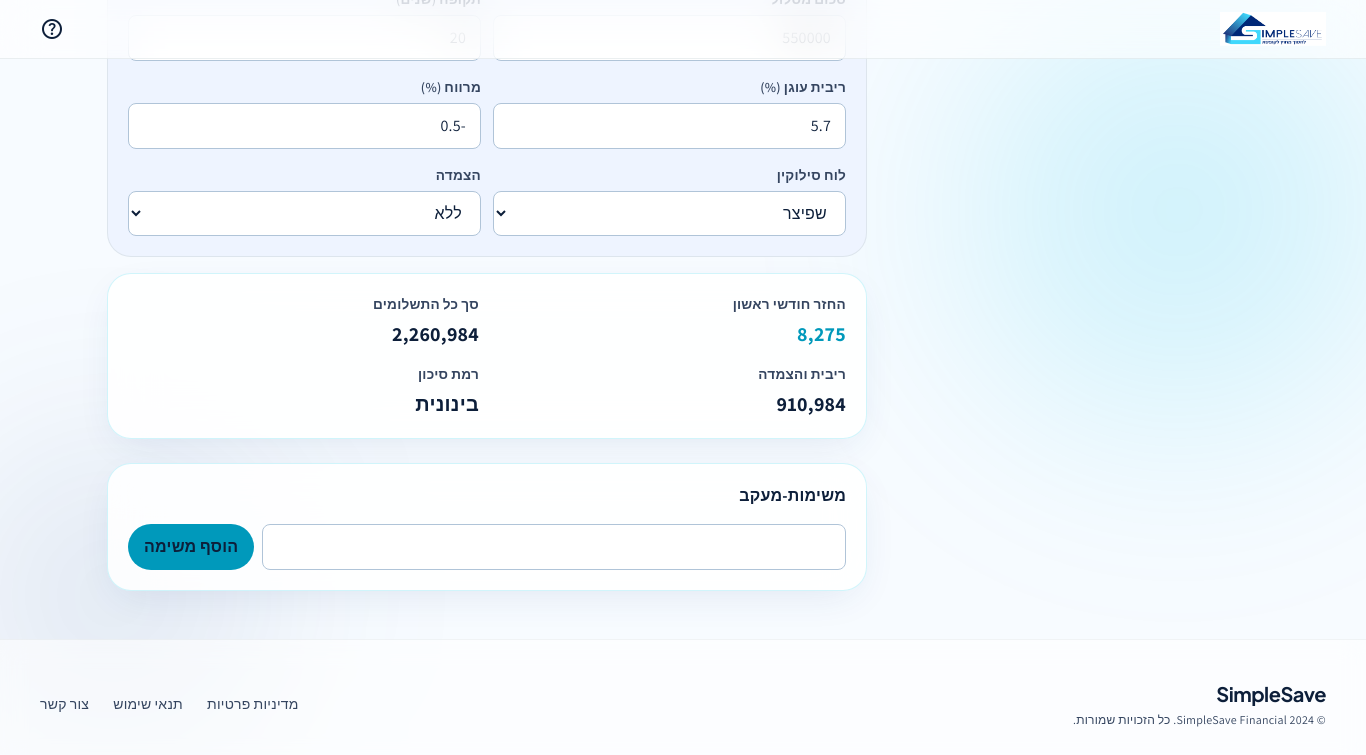
Test: AdvisorScreen › lets the advisor add an open task for a client directly on their profile
(page scrolled)
Type "להתקשר לגבי אישור עקרוני" into the field named "תיאור המשימה" at (554, 547), box [262,524,846,570]
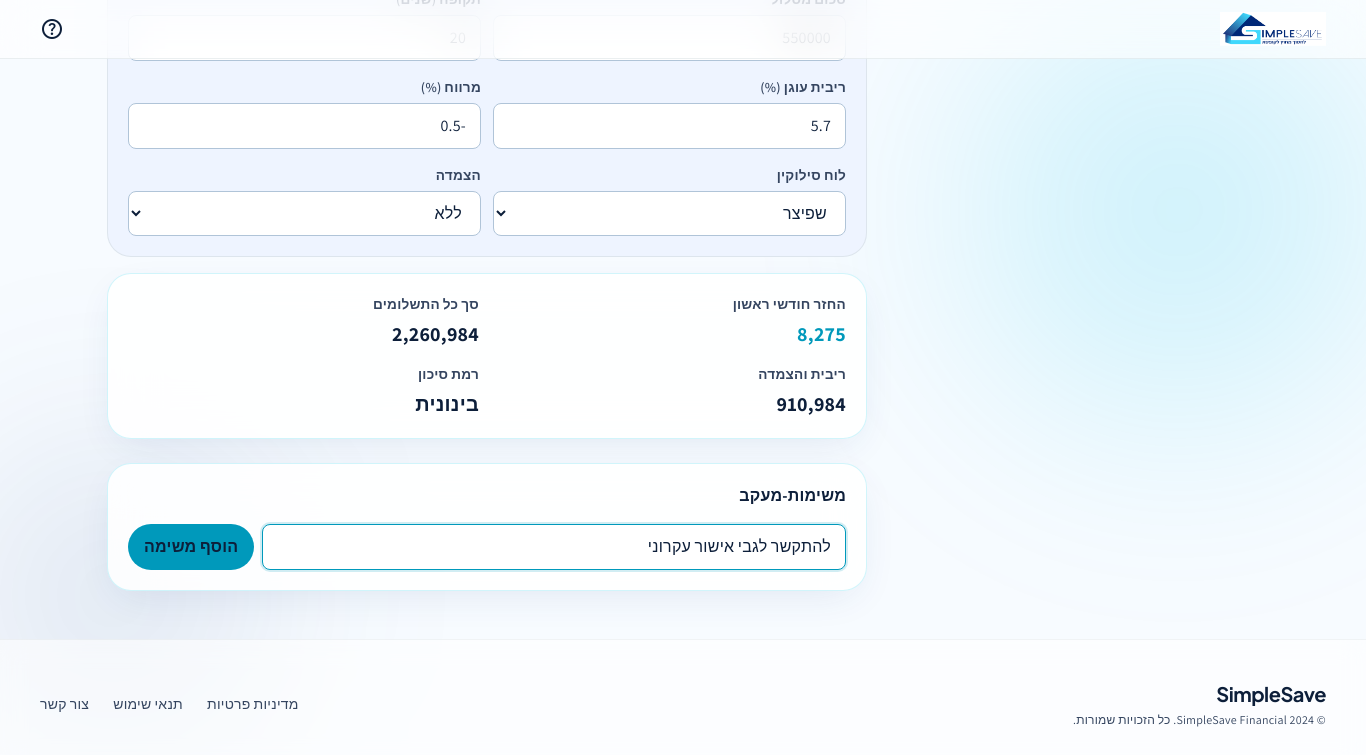
Click the button "הוסף משימה" at (191, 547), box [128,524,254,570]
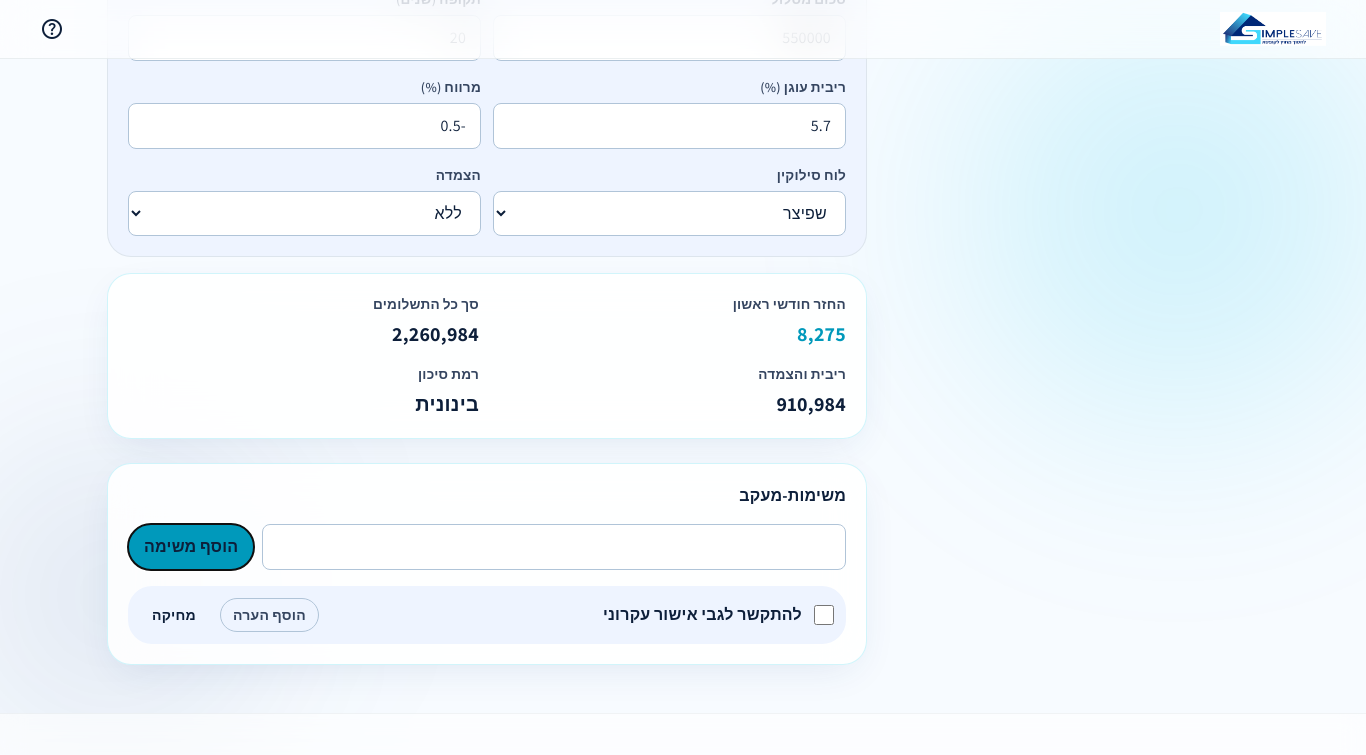
Expected: the text "להתקשר לגבי אישור עקרוני" is shown, [603,604,802,625]
